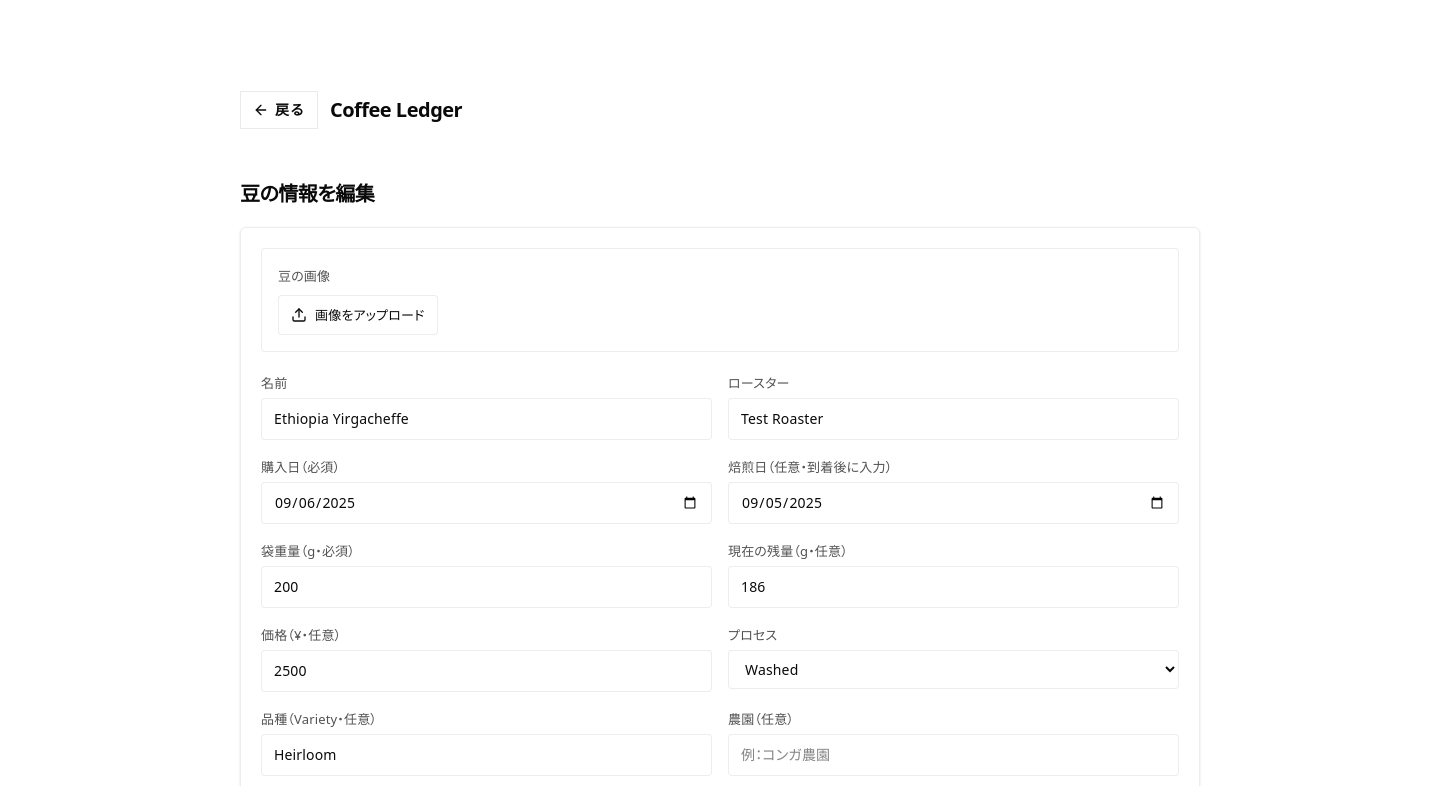
Scenario: EditBagPage › saves updates and shows success modal
This screenshot has width=1440, height=786.
Replace the text in the field showing "Ethiopia Yirgacheffe" with "Updated Name" at (486, 419), box [261,398,712,440]
(page scrolled)
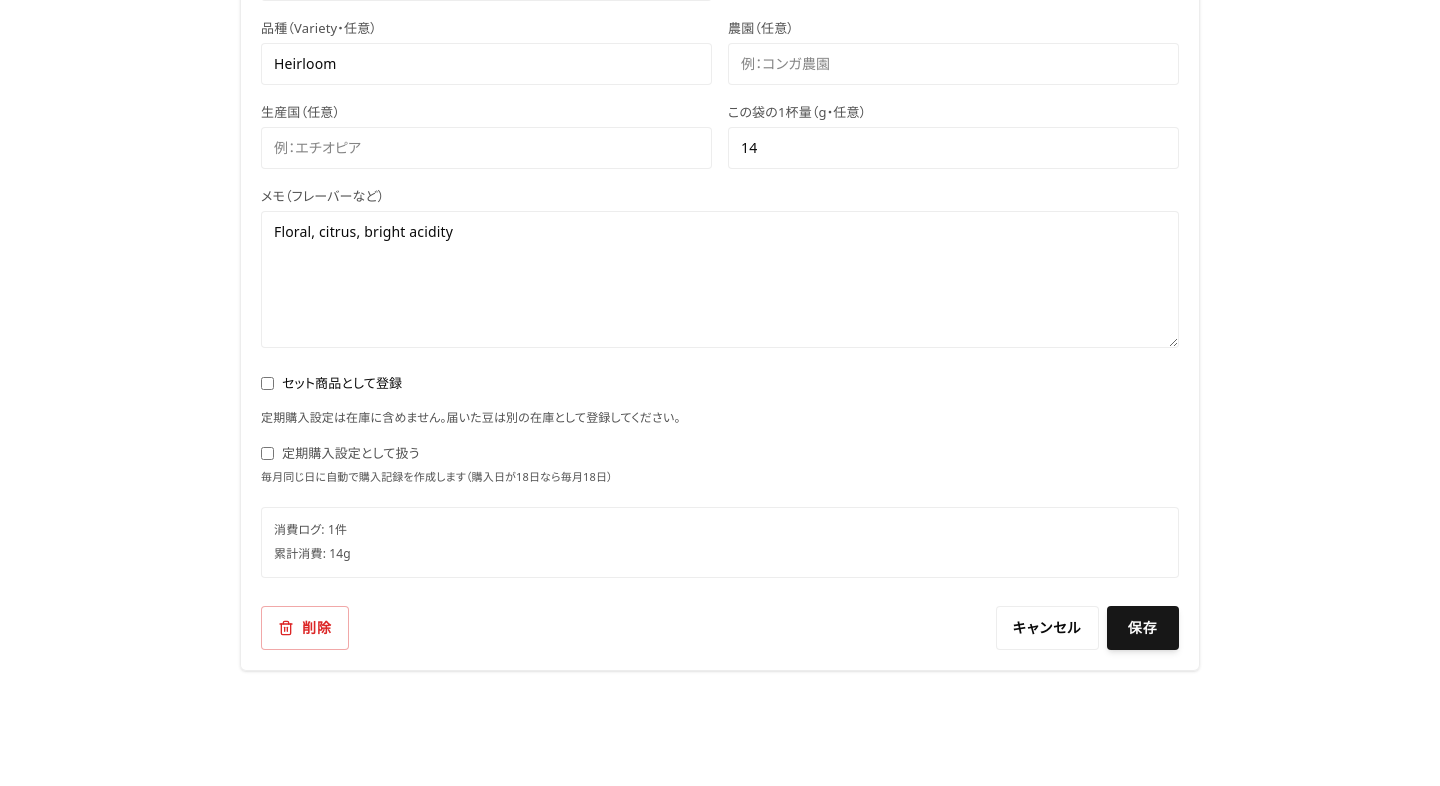
Click the button "保存" at (1143, 628), box [1107,606,1179,650]
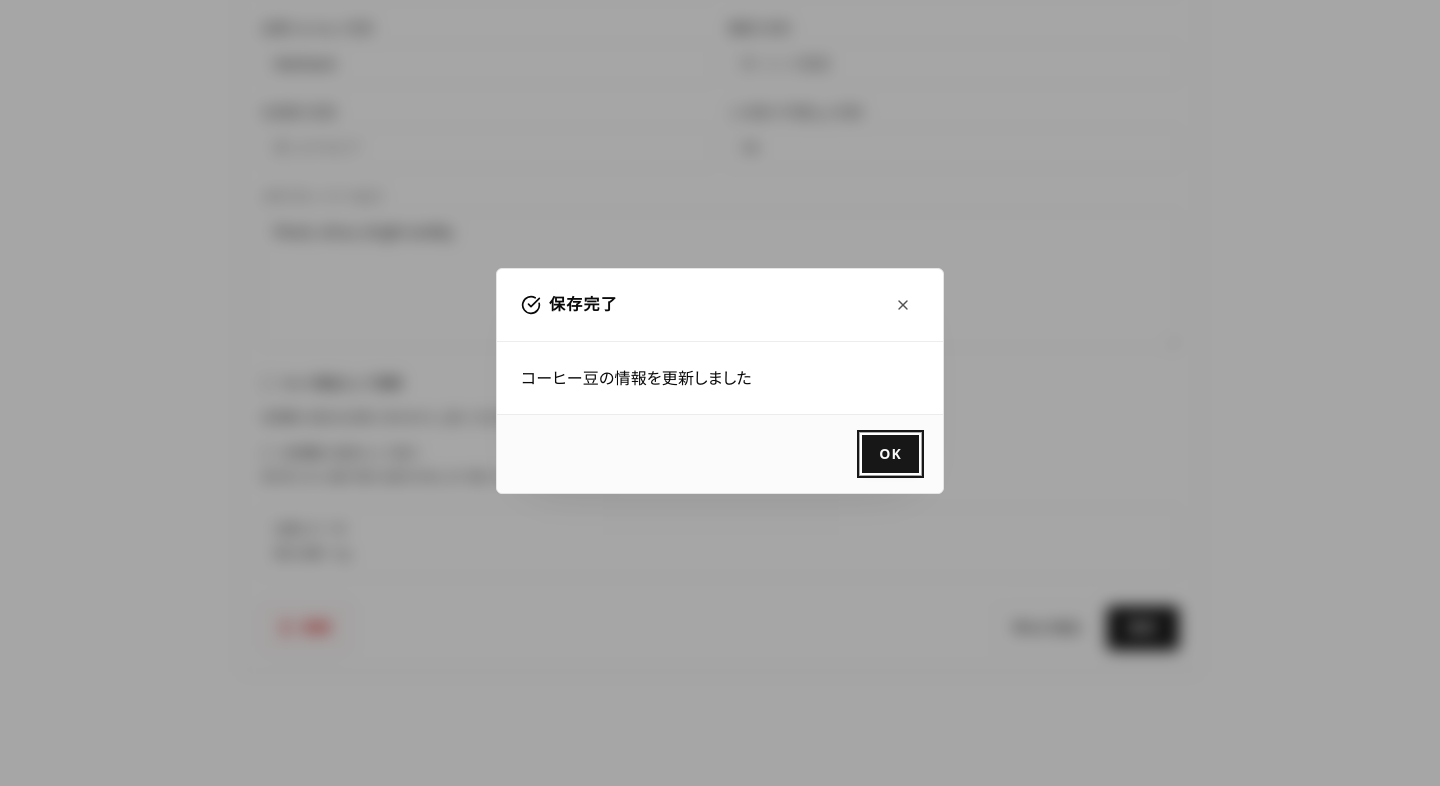
Result: the heading "保存完了" is shown at [549,293,618,317]
Result: the text "コーヒー豆の情報を更新しました" is shown at [521,367,752,389]
